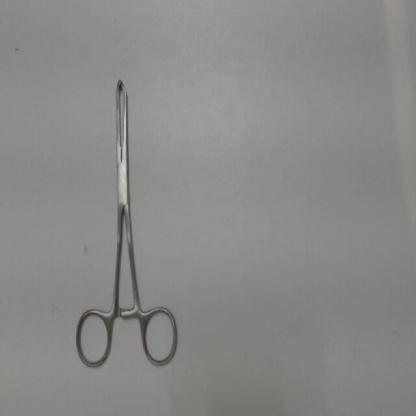Allis Tissue Forceps: (69, 66, 187, 376)
